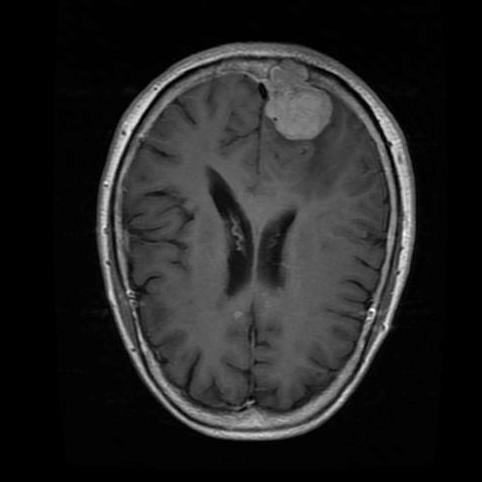Tumour-Meningioma: (246, 66, 343, 152)
